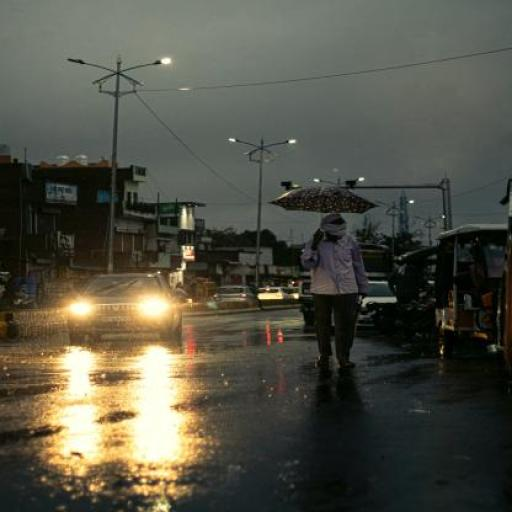street light: (64, 58, 174, 295), (224, 137, 298, 297), (315, 178, 366, 292), (373, 201, 415, 281)
